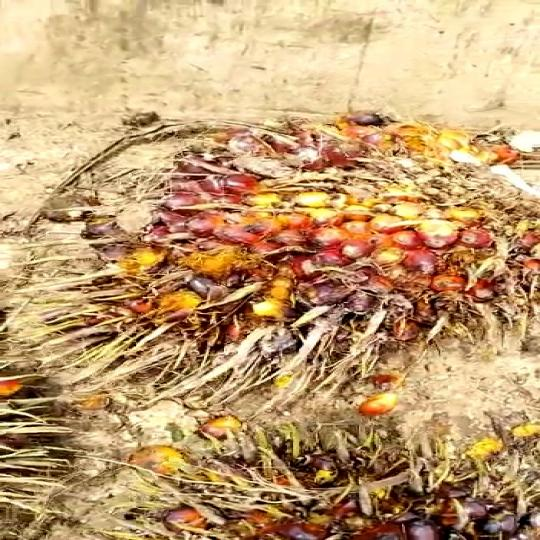masak: (90, 107, 540, 397)
